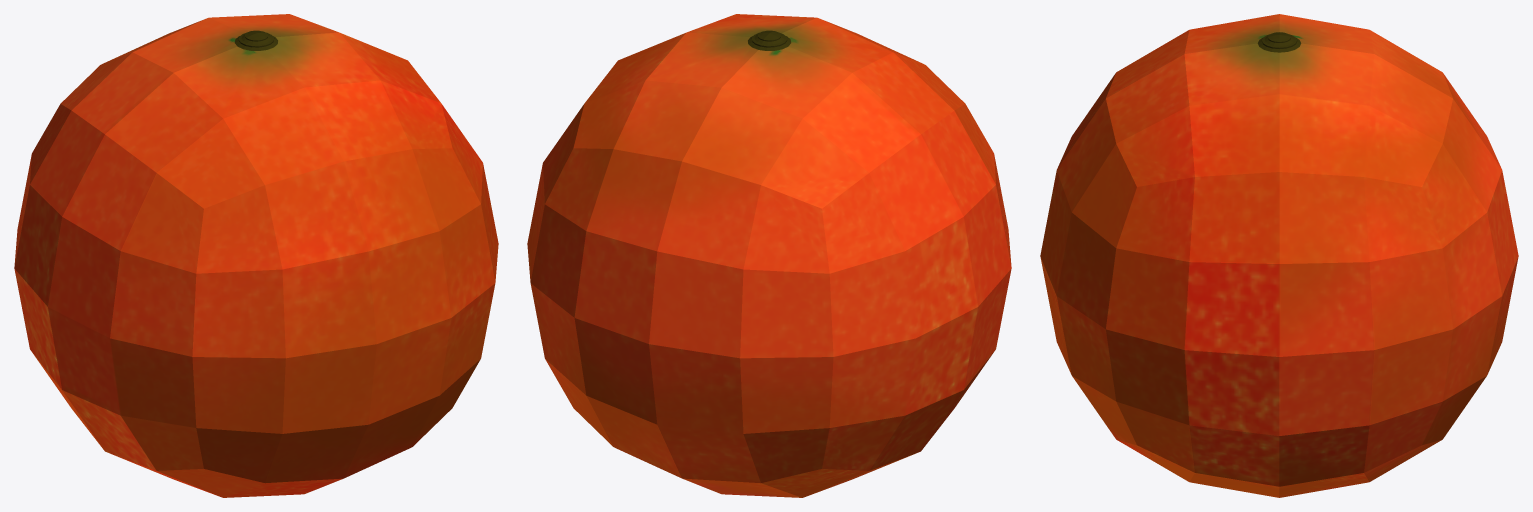
Rendered from Arancia.fbx.
The picture shows the model from 3 angles, left to right: view 1: azimuth 30°, elevation 25°; view 2: azimuth 150°, elevation 25°; view 3: azimuth 270°, elevation 25°; orthographic projection.
Parts seen in each view (by area): view 1: Arancia, Arancia_piccioli; view 2: Arancia, Arancia_piccioli; view 3: Arancia, Arancia_piccioli.
Part boxes in pixels (bbox=[...]): Arancia: bbox=[14, 14, 498, 497]; Arancia_piccioli: bbox=[234, 30, 277, 50]; Arancia: bbox=[527, 14, 1011, 497]; Arancia_piccioli: bbox=[748, 30, 791, 50]; Arancia: bbox=[1040, 14, 1518, 497]; Arancia_piccioli: bbox=[1257, 32, 1301, 52].
Size of the model in its own units: 128 by 129 by 128.
2 materials, 1 textured.
